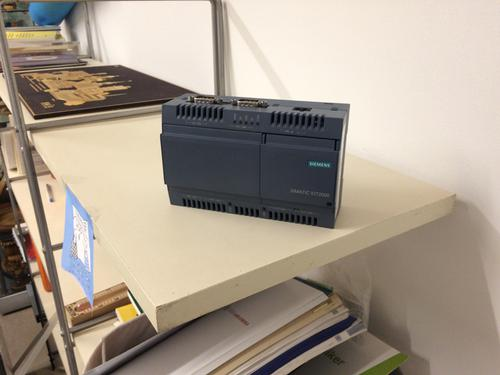iot2000: (159, 92, 351, 230)
